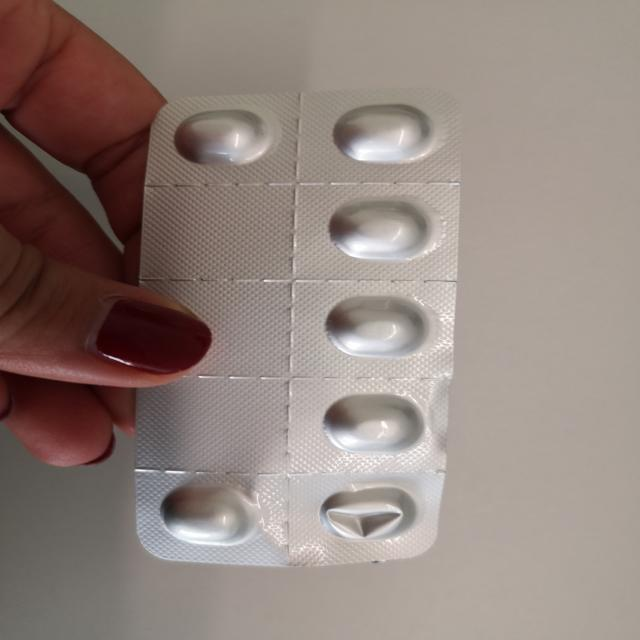Empty: (312, 481, 430, 550)
Pill: (310, 190, 441, 266), (155, 474, 269, 557), (310, 290, 445, 358), (312, 387, 434, 457), (323, 102, 443, 171), (162, 103, 278, 166)
